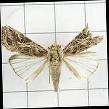Spodoptera litura: (2, 23, 105, 93)
